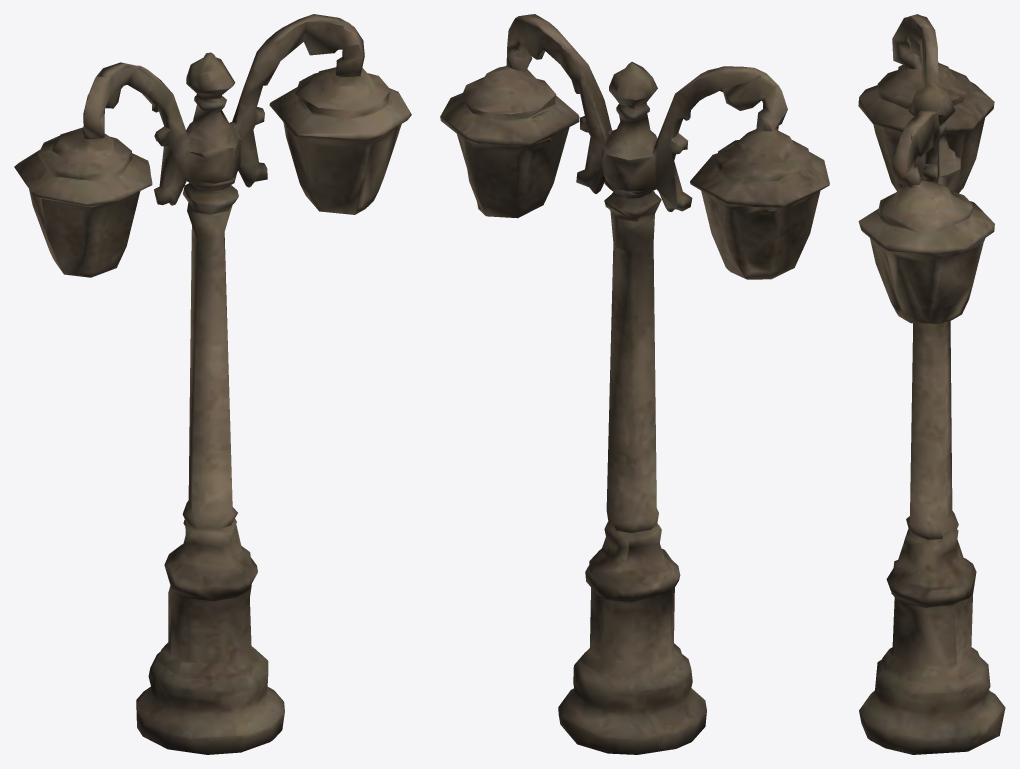
The model's file is weathered-wood-lamp-post-v001.glb.
3 views of the same model, side by side, from view 1: azimuth 30°, elevation 25°; view 2: azimuth 150°, elevation 25°; view 3: azimuth 270°, elevation 25° (orthographic). The views are drawn at different scales.
Visible parts, largest first — view 1: weathered-wood-lamp-post; view 2: weathered-wood-lamp-post; view 3: weathered-wood-lamp-post.
Part boxes in pixels (bbox=[...]): weathered-wood-lamp-post: bbox=[14, 14, 411, 754]; weathered-wood-lamp-post: bbox=[440, 14, 829, 754]; weathered-wood-lamp-post: bbox=[858, 14, 1005, 754].
Size of the model in its own units: 1.47 by 2.57 by 0.5195.
Materials: 1 (1 with a texture image).
